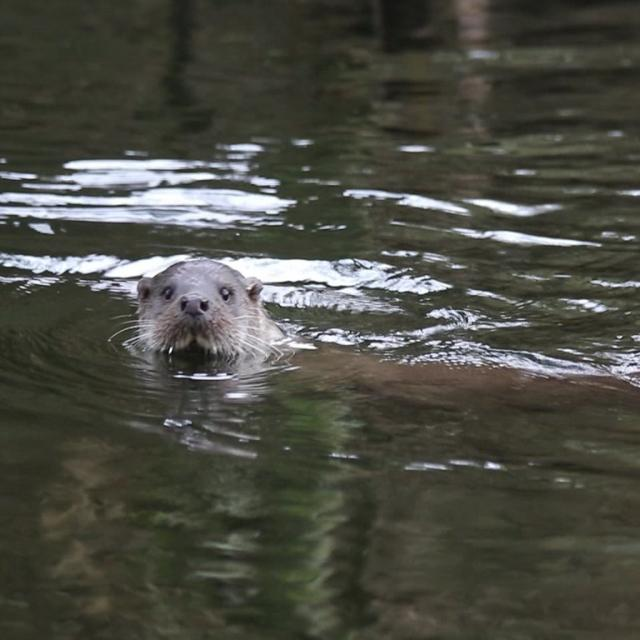otter: (138, 260, 264, 363)
